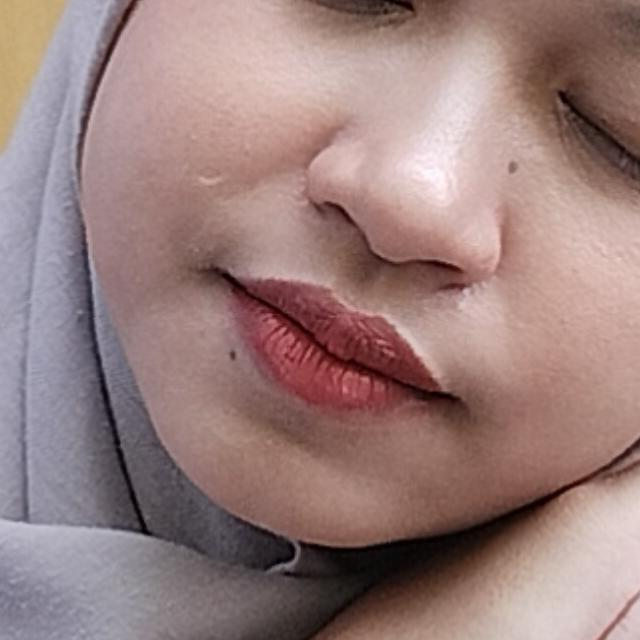tidur: (26, 98, 640, 640)
